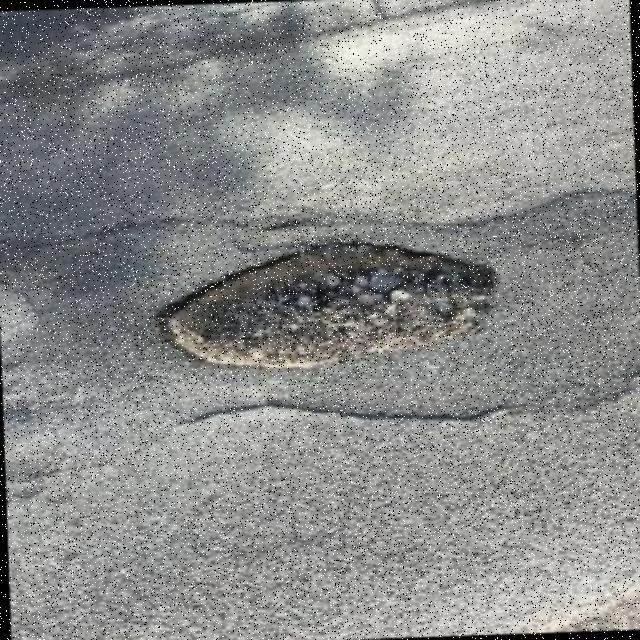Pothole: (156, 240, 496, 369)
